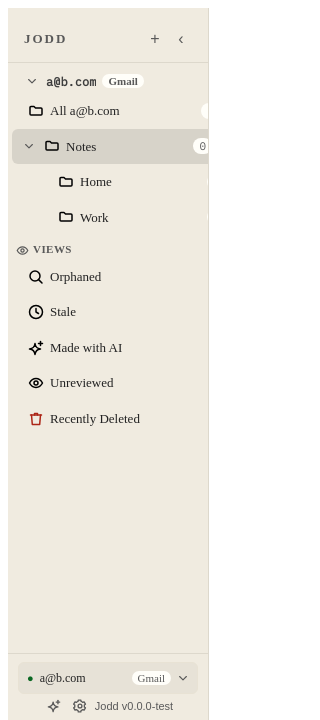
Test: account menu: Make a note with AI in this account… › is absent on an account that cannot write notes; Ask stays
The width and height of the screenshot is (320, 720).
Expected: the text titled "Work" is shown, [80,210,109,224]
Right-click the element with class "account-header" at (85, 81), box [26,74,144,88]
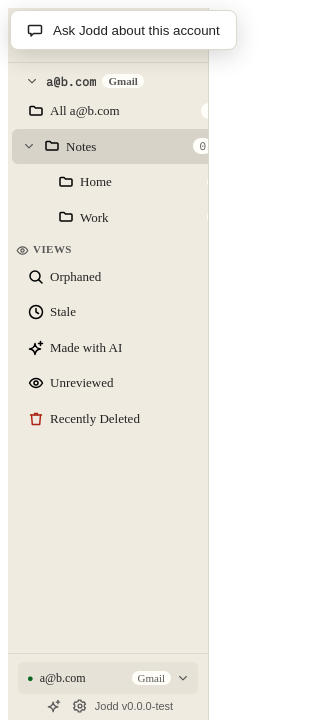
Now the button "Ask Jodd about this account" is shown, box [15,15,232,45]
